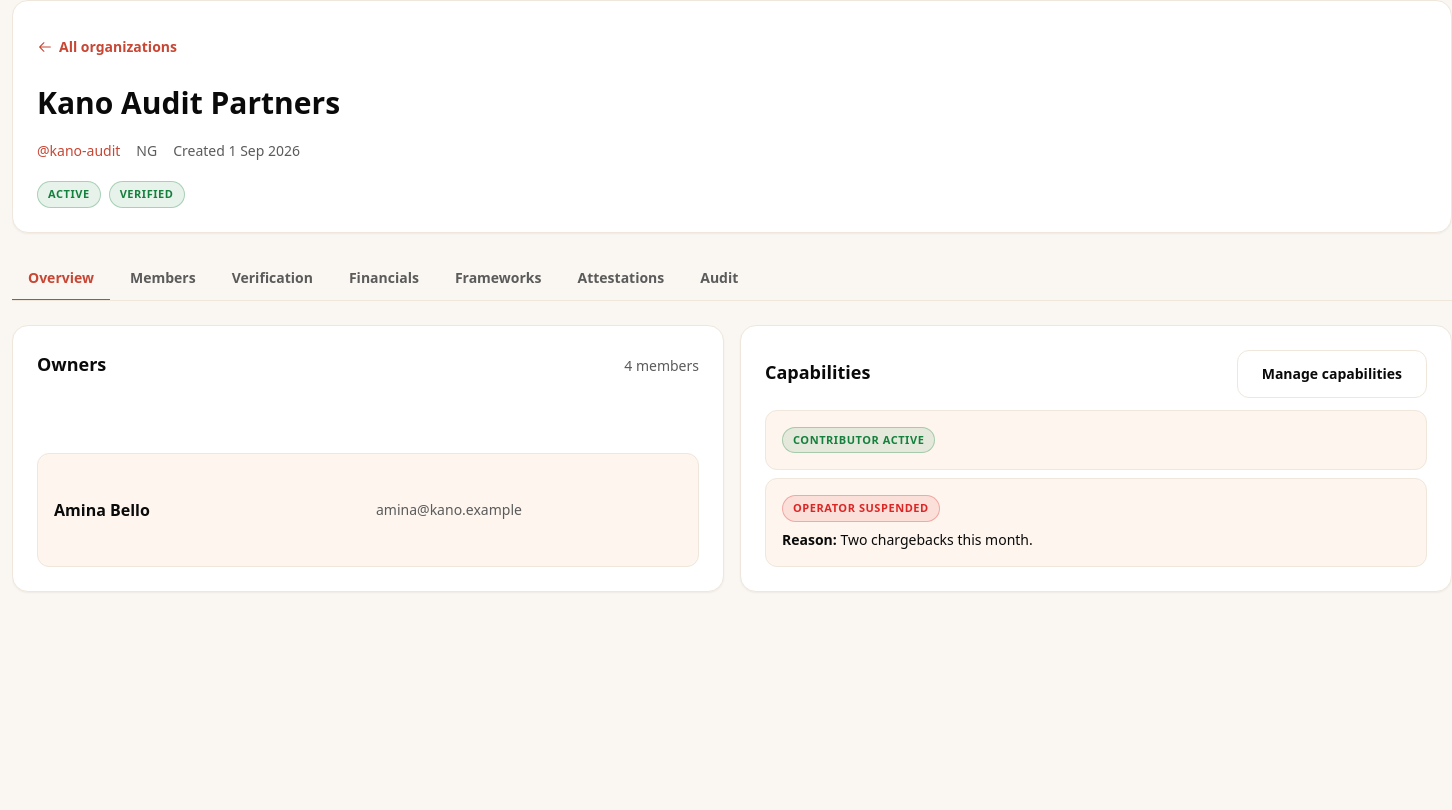
it: AdminOrganizationDetailPage › shows audit entries and requests page 2 on Next
The image size is (1452, 810).
Expected: the heading "Kano Audit Partners" is shown, [37, 82, 340, 123]
Click the tab "Audit". click: (719, 278)
box: [684, 256, 754, 300]
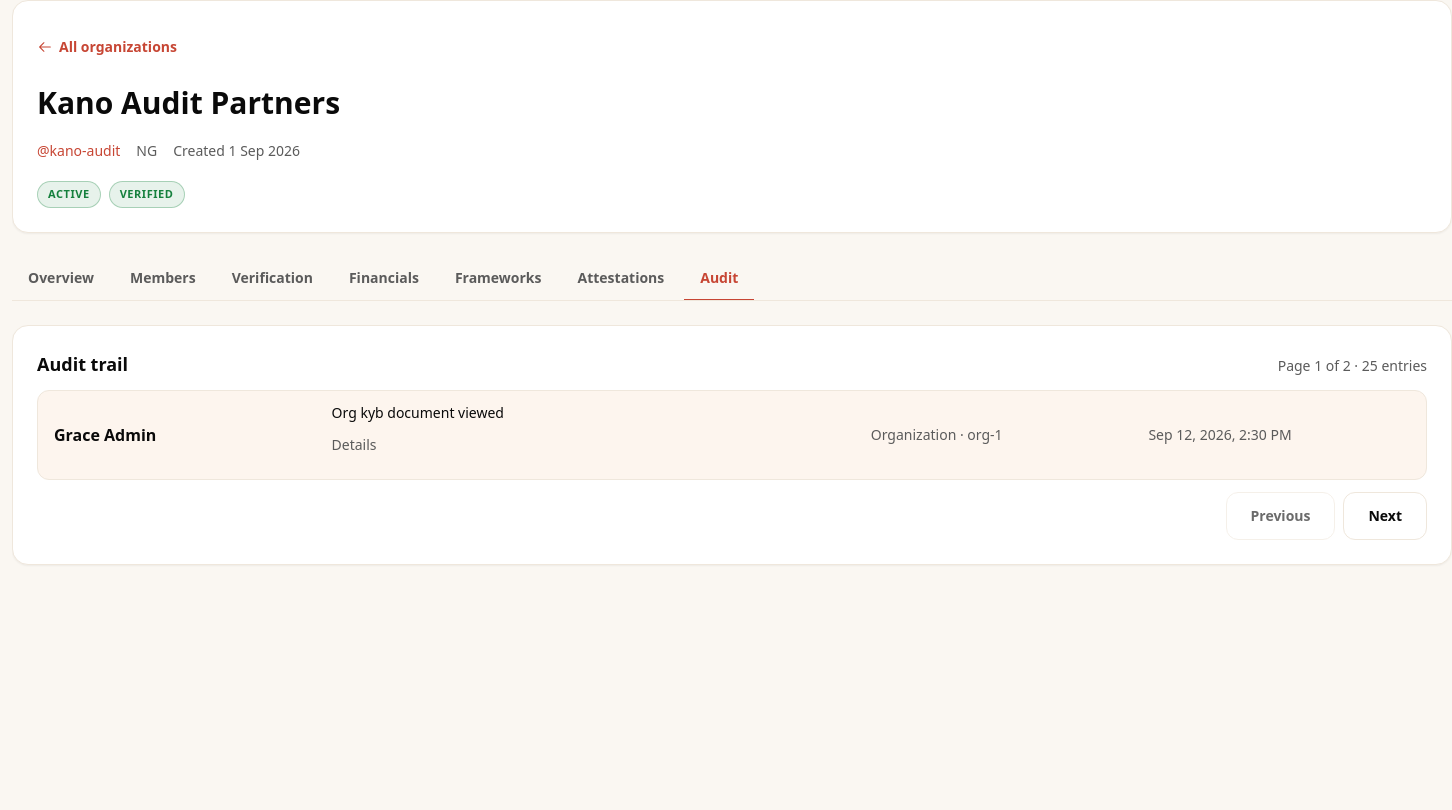
Expected: the text "Grace Admin" is shown, [54, 424, 156, 446]
Expected: the panel shows "Org kyb document viewed", [332, 402, 504, 422]
Expected: the heading "Details" is shown, [332, 434, 377, 454]
Click the button "Next". click: (1385, 516)
box: [1344, 492, 1427, 540]
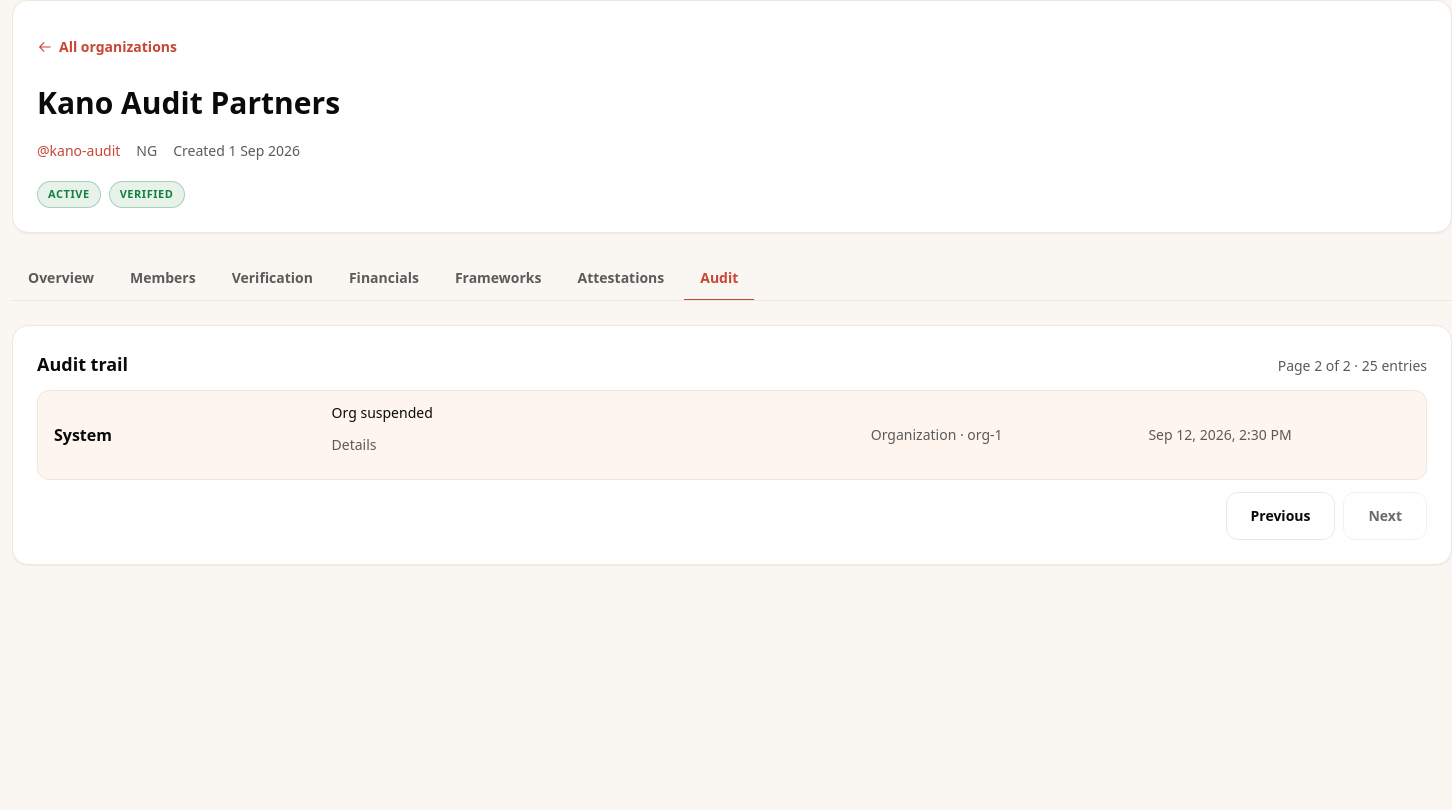
Expected: the text "System" is shown, [54, 424, 112, 446]
Expected: the button "Next" is disabled, [1344, 492, 1427, 540]
